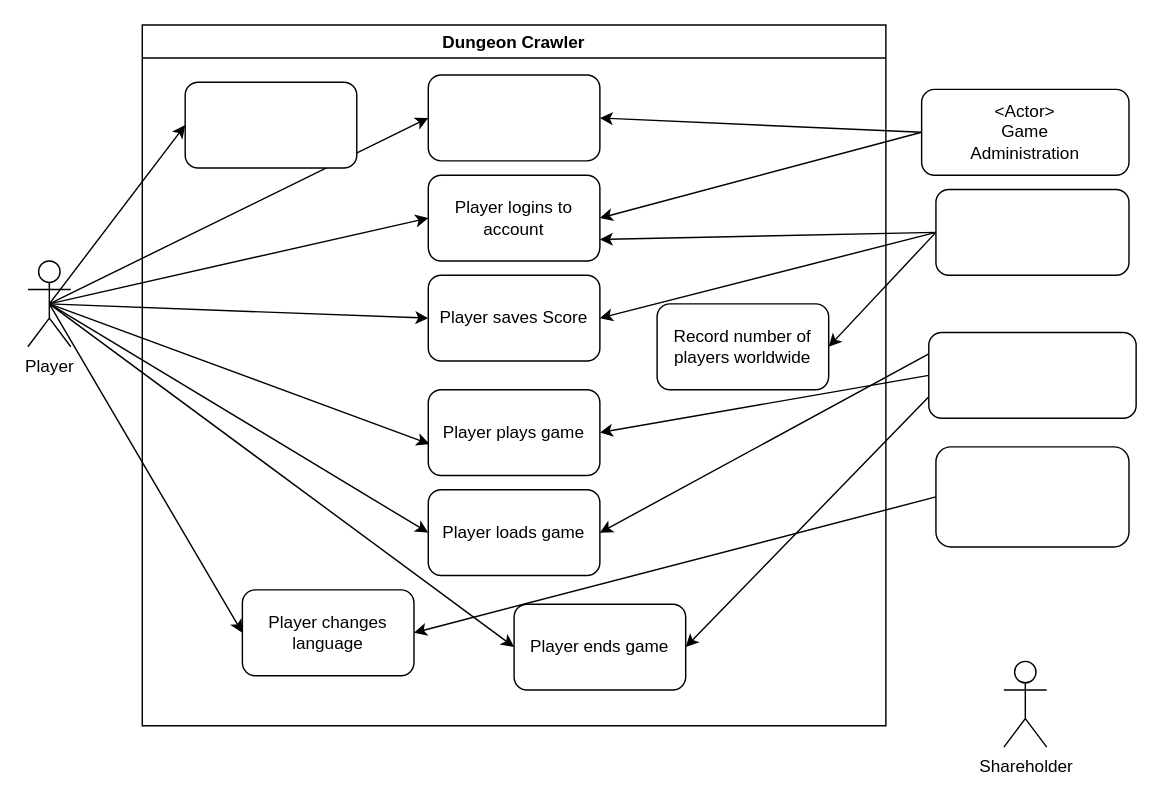
Image size: 1161x802. Some labels were removed from this diagram. Each missing label, with the box of its shape:
<Actor> Contractor Company that localizes to different languages: (935, 445, 1129, 547)
<Actor> Device System: (927, 331, 1136, 418)
<Actor> Third-party database: (935, 188, 1129, 275)
Player changes controls: (427, 74, 600, 161)
Player chooses character: (184, 81, 357, 168)
